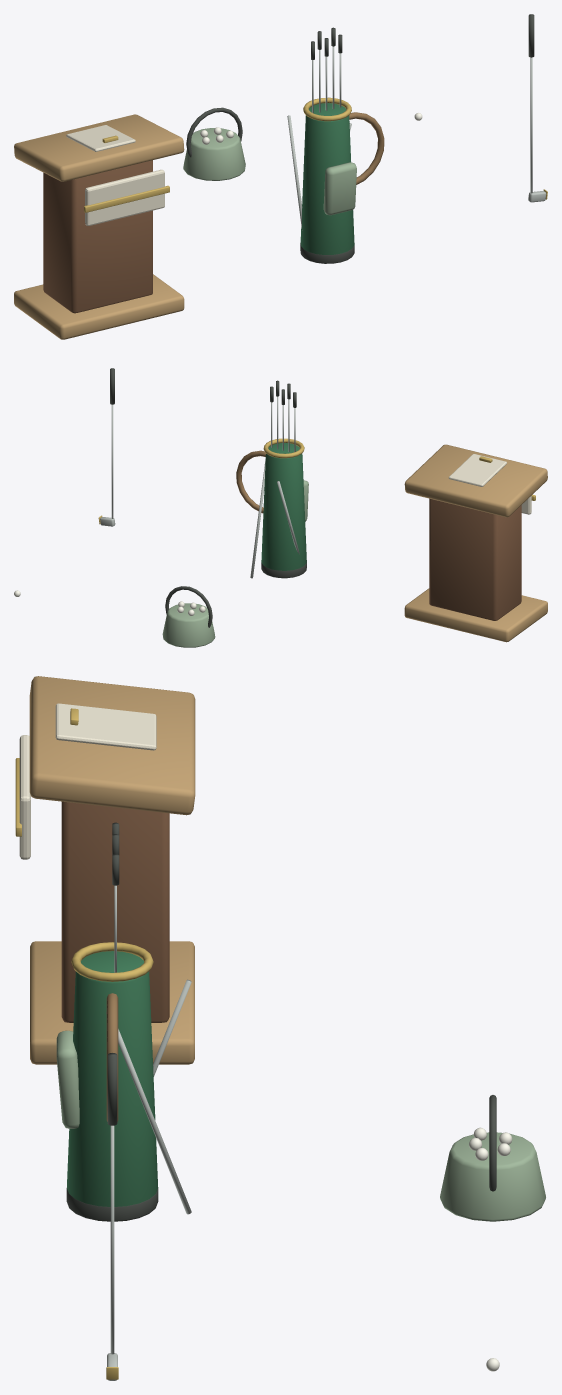
File: golf_gameplay_kit.glb
3 renders of one model, top to bottom at view 1: azimuth 30°, elevation 25°; view 2: azimuth 150°, elevation 25°; view 3: azimuth 270°, elevation 25°, orthographic. The views are drawn at different scales.
Visible parts, largest first — view 1: StarterStand_Pinehollow_Walnut, StarterStand_Pinehollow_Oak, GolfBag_Pinehollow_DeepGreen, StarterStand_Pinehollow_Cream, RangeBasket_Pinehollow_Sage, GolfBag_Pinehollow_Sage, GolfBag_Pinehollow_Steel, GolfBag_Pinehollow_Charcoal, StarterStand_Pinehollow_Brass, GolfBag_Pinehollow_Leather, GolfClub_Pinehollow_Steel, GolfBag_Pinehollow_Brass (+1 smaller); view 2: StarterStand_Pinehollow_Walnut, StarterStand_Pinehollow_Oak, GolfBag_Pinehollow_DeepGreen, RangeBasket_Pinehollow_Sage, StarterStand_Pinehollow_Cream, GolfBag_Pinehollow_Steel, GolfBag_Pinehollow_Charcoal, GolfBag_Pinehollow_Leather, GolfClub_Pinehollow_Steel, GolfBag_Pinehollow_Brass, RangeBasket_Pinehollow_Charcoal; view 3: StarterStand_Pinehollow_Oak, StarterStand_Pinehollow_Walnut, GolfBag_Pinehollow_DeepGreen, RangeBasket_Pinehollow_Sage, StarterStand_Pinehollow_Cream, GolfBag_Pinehollow_Steel, GolfBag_Pinehollow_Sage, GolfBag_Pinehollow_Charcoal, GolfBag_Pinehollow_Brass, GolfClub_Pinehollow_Steel, GolfBag_Pinehollow_Leather.
Boxes of the visible parts, bbox=[...] form: StarterStand_Pinehollow_Walnut: bbox=[43, 160, 152, 313]; StarterStand_Pinehollow_Oak: bbox=[14, 114, 184, 339]; GolfBag_Pinehollow_DeepGreen: bbox=[300, 103, 354, 254]; StarterStand_Pinehollow_Cream: bbox=[66, 125, 164, 225]; RangeBasket_Pinehollow_Sage: bbox=[183, 128, 245, 180]; GolfBag_Pinehollow_Sage: bbox=[323, 162, 356, 215]; GolfBag_Pinehollow_Steel: bbox=[287, 46, 351, 230]; GolfBag_Pinehollow_Charcoal: bbox=[300, 27, 354, 263]; StarterStand_Pinehollow_Brass: bbox=[84, 135, 169, 212]; GolfBag_Pinehollow_Leather: bbox=[349, 112, 384, 184]; GolfClub_Pinehollow_Steel: bbox=[528, 57, 546, 202]; GolfBag_Pinehollow_Brass: bbox=[303, 97, 351, 121]; StarterStand_Pinehollow_Walnut: bbox=[429, 498, 521, 620]; StarterStand_Pinehollow_Oak: bbox=[404, 444, 547, 642]; GolfBag_Pinehollow_DeepGreen: bbox=[261, 443, 306, 570]; RangeBasket_Pinehollow_Sage: bbox=[162, 603, 215, 647]; StarterStand_Pinehollow_Cream: bbox=[448, 454, 531, 514]; GolfBag_Pinehollow_Steel: bbox=[250, 396, 299, 578]; GolfBag_Pinehollow_Charcoal: bbox=[261, 380, 306, 578]; GolfBag_Pinehollow_Leather: bbox=[236, 450, 265, 513]; GolfClub_Pinehollow_Steel: bbox=[100, 404, 115, 526]; GolfBag_Pinehollow_Brass: bbox=[263, 438, 304, 458]; RangeBasket_Pinehollow_Charcoal: bbox=[165, 586, 212, 627]; StarterStand_Pinehollow_Oak: bbox=[29, 676, 195, 1064]; StarterStand_Pinehollow_Walnut: bbox=[61, 801, 169, 1022]; GolfBag_Pinehollow_DeepGreen: bbox=[67, 951, 158, 1206]; RangeBasket_Pinehollow_Sage: bbox=[440, 1132, 545, 1221]; StarterStand_Pinehollow_Cream: bbox=[19, 703, 156, 859]; GolfBag_Pinehollow_Steel: bbox=[106, 885, 191, 1214]; GolfBag_Pinehollow_Sage: bbox=[56, 1030, 79, 1128]; GolfBag_Pinehollow_Charcoal: bbox=[66, 822, 158, 1221]; GolfBag_Pinehollow_Brass: bbox=[71, 942, 153, 981]; GolfClub_Pinehollow_Steel: bbox=[107, 1125, 117, 1380]; GolfBag_Pinehollow_Leather: bbox=[106, 993, 118, 1121].
Size of what is drawn, in the model's own units: 3.12 by 1.3 by 1.67.
